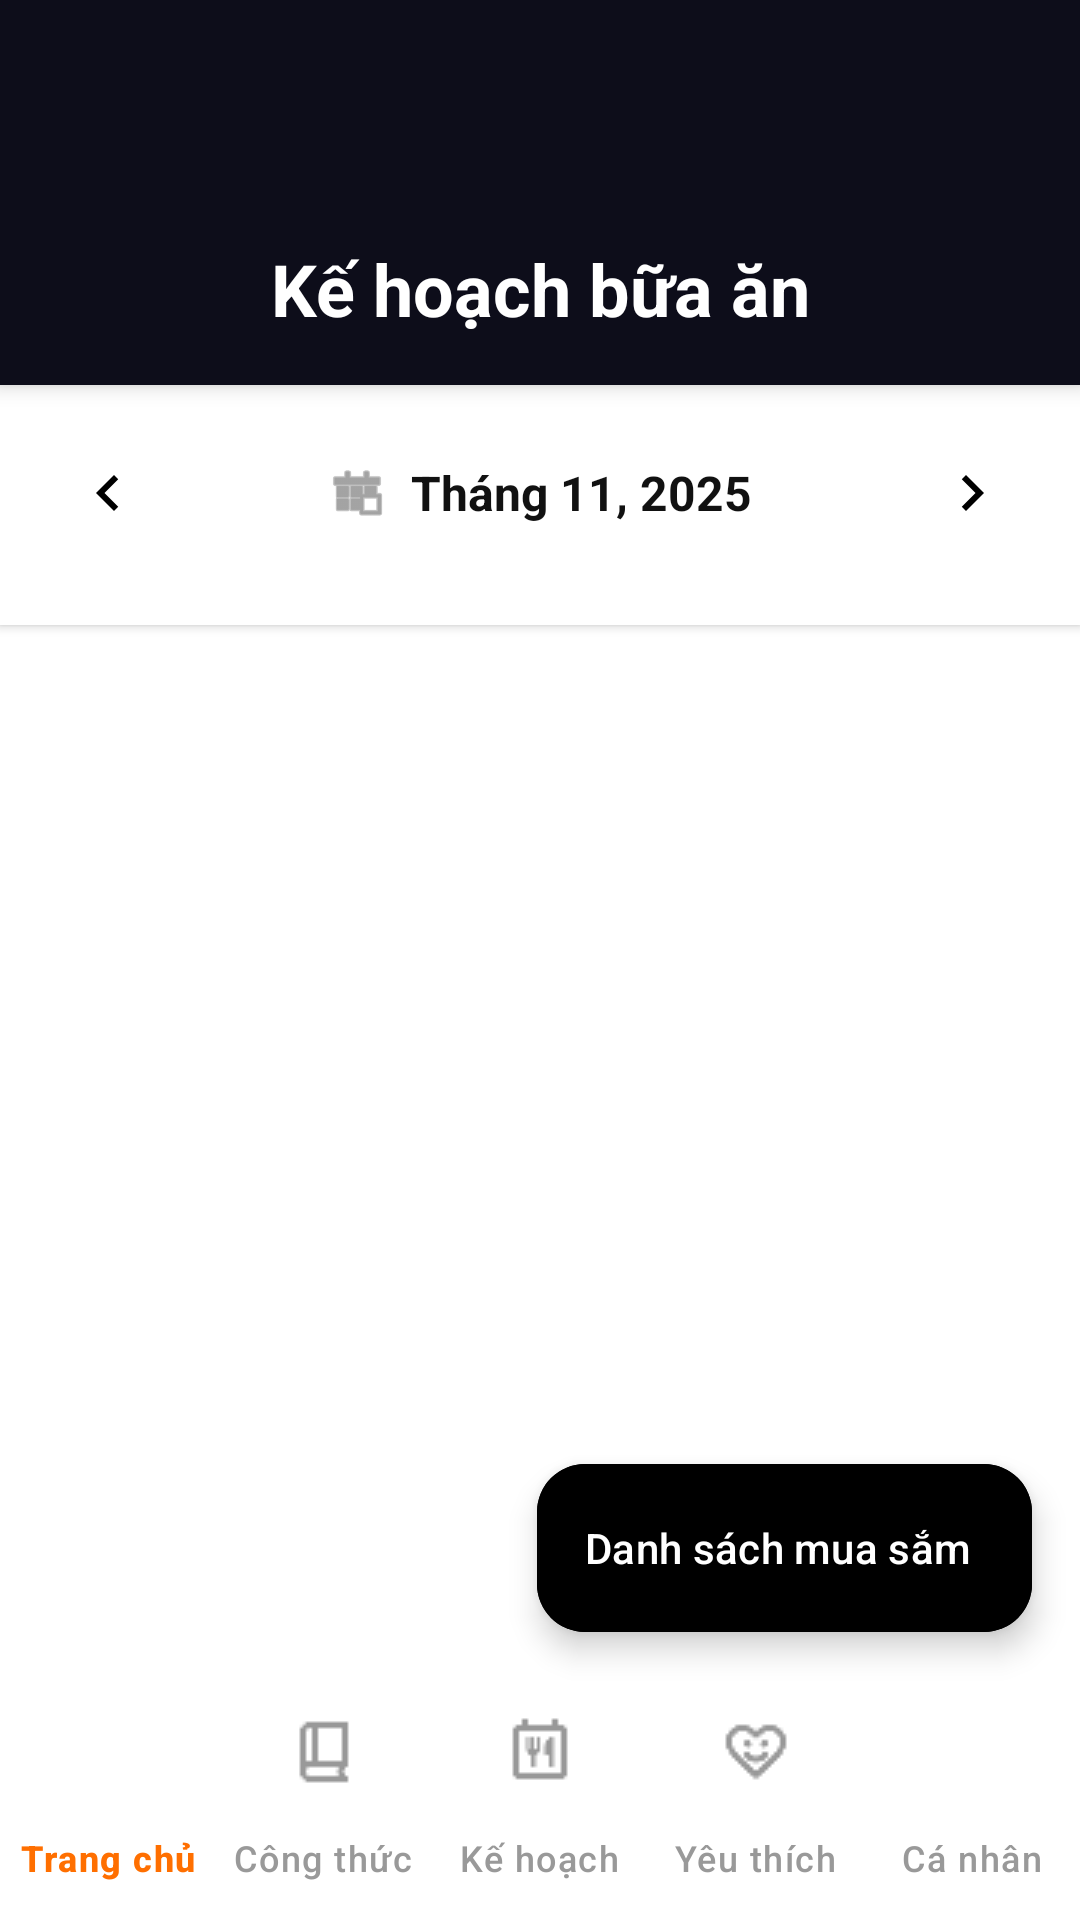

Screen size 1080px×1920px. Icon name, then its box in pixels as [x1=x1, y1=y1, x2=x2, y2=y2]:
today: [x1=333, y1=470, x2=382, y2=516]
Tuần sau: [x1=962, y1=475, x2=984, y2=511]
Tuần trước: [x1=96, y1=475, x2=118, y2=511]
